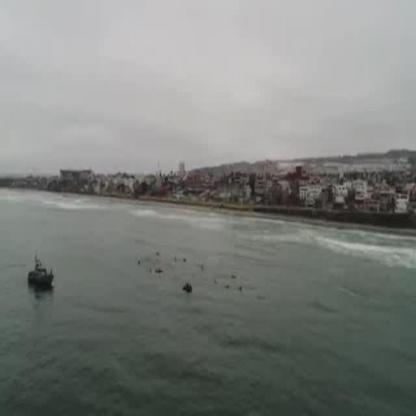Boat: (25, 250, 57, 296)
